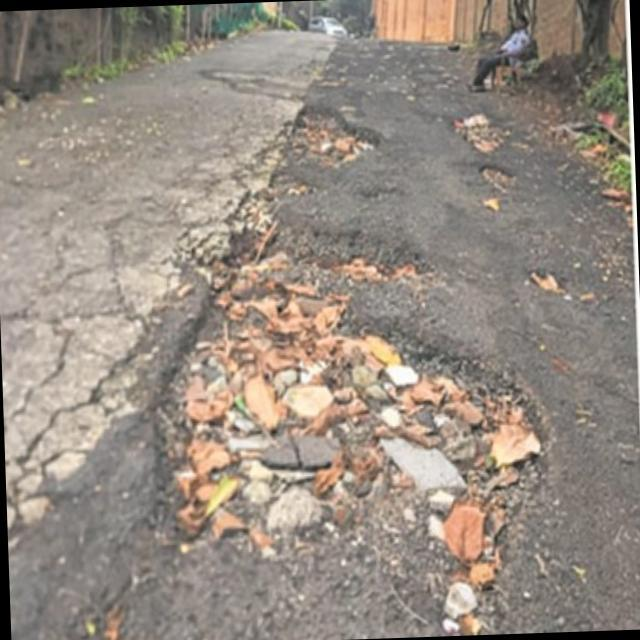Pothole: (146, 283, 550, 639), (204, 202, 428, 306), (276, 101, 389, 171)
